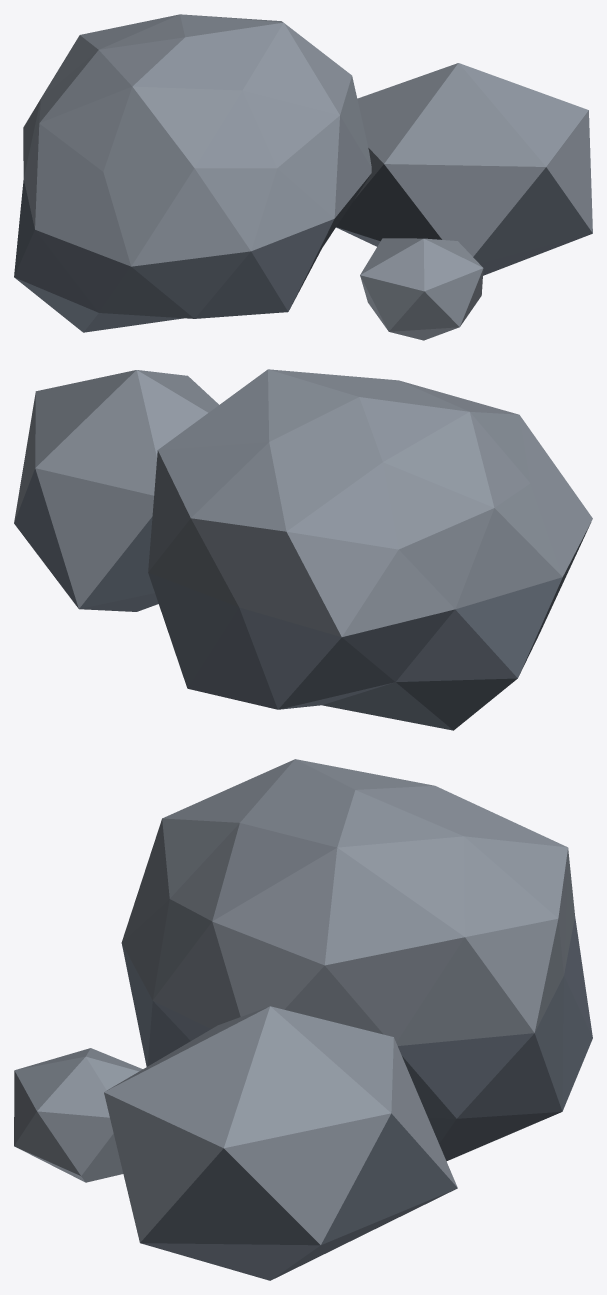
File: riprap_c.glb
3 views of the same model, one above another, from view 1: azimuth 30°, elevation 25°; view 2: azimuth 150°, elevation 25°; view 3: azimuth 270°, elevation 25° (orthographic). The views are drawn at different scales.
Parts seen in each view (by area): view 1: riprap_c; view 2: riprap_c; view 3: riprap_c.
Part boxes in pixels (left/top/right/bottom): riprap_c: left=14, top=14, right=592, bottom=340; riprap_c: left=14, top=369, right=592, bottom=730; riprap_c: left=14, top=759, right=592, bottom=1280.
Size of the model in its own units: 2.61 by 1.35 by 2.04.
